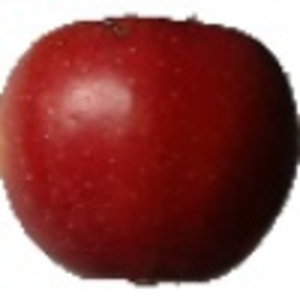maçã braeburn: (1, 9, 297, 286)
